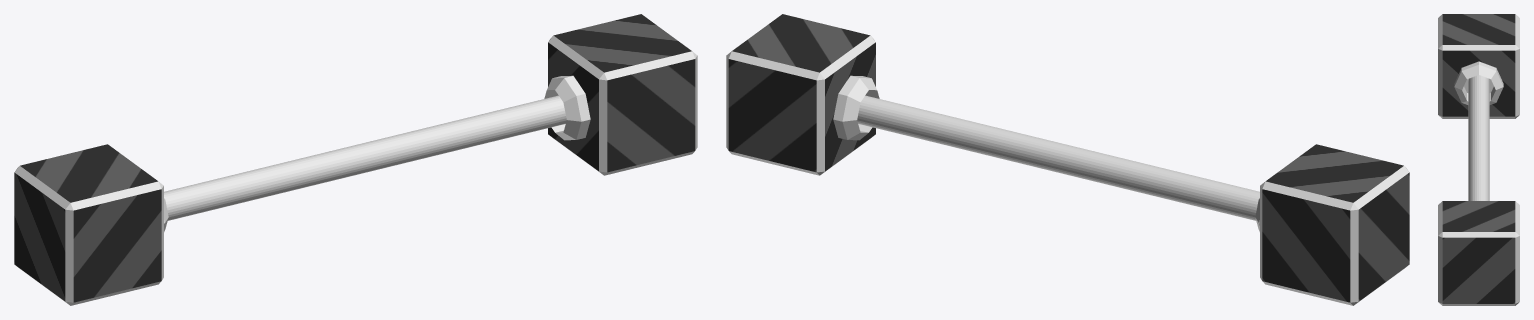
Rendered from Cube_laser.fbx.
3 renders of one model, left to right at view 1: azimuth 30°, elevation 25°; view 2: azimuth 150°, elevation 25°; view 3: azimuth 270°, elevation 25°, orthographic. The views are drawn at different scales.
Parts seen in each view (by area): view 1: Cube_laser, laser; view 2: Cube_laser, laser; view 3: Cube_laser, laser.
Boxes of the visible parts, x1=… form: Cube_laser: x1=14, y1=14, x2=697, y2=305; laser: x1=164, y1=95, x2=566, y2=220; Cube_laser: x1=726, y1=14, x2=1409, y2=305; laser: x1=857, y1=95, x2=1259, y2=220; Cube_laser: x1=1438, y1=14, x2=1519, y2=305; laser: x1=1468, y1=75, x2=1489, y2=200.
Size of the model in its own units: 12.83 by 2 by 2.
